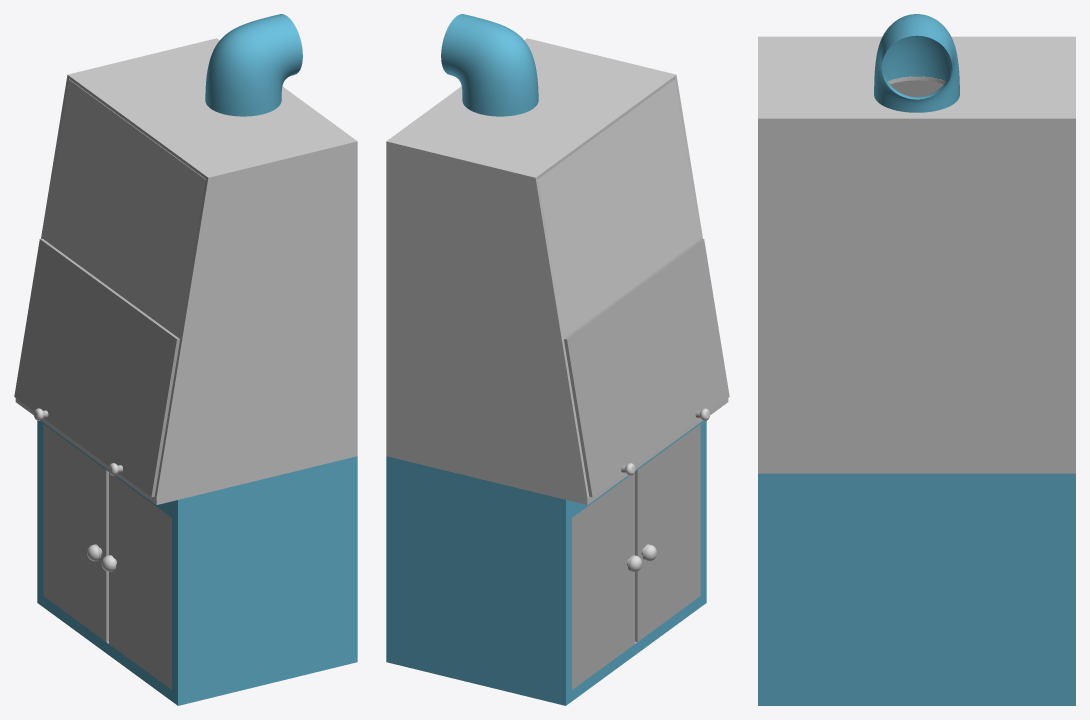
The model's file is appareil1.gltf.
3 views of the same model, side by side, from view 1: azimuth 30°, elevation 25°; view 2: azimuth 150°, elevation 25°; view 3: azimuth 270°, elevation 25° (orthographic). The views are drawn at different scales.
Visible parts, largest first — view 1: Chemical synthesis laboratory; view 2: Chemical synthesis laboratory; view 3: Chemical synthesis laboratory.
Part boxes in pixels (x1,y1,x2,y2): Chemical synthesis laboratory: (14, 14, 357, 705); Chemical synthesis laboratory: (386, 14, 729, 705); Chemical synthesis laboratory: (758, 14, 1075, 705).
Size of the model in its own units: 0.9919 by 2.62 by 1.13.
